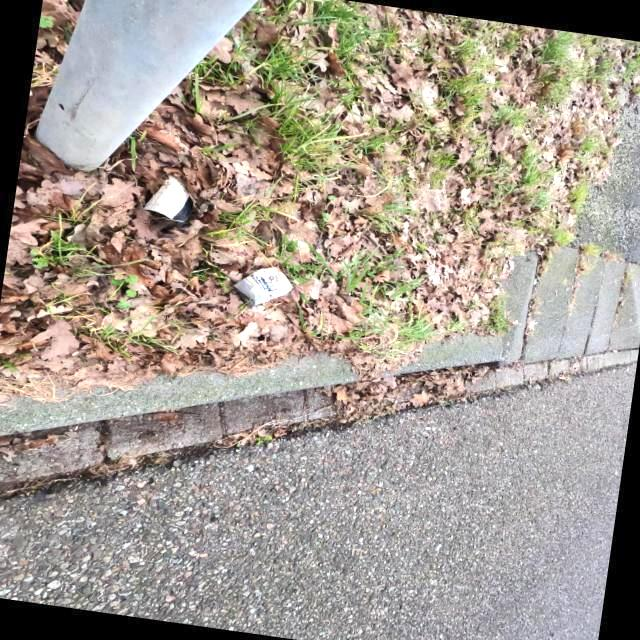Coffee Cup: (142, 174, 194, 228)
Paper: (232, 265, 296, 309)
